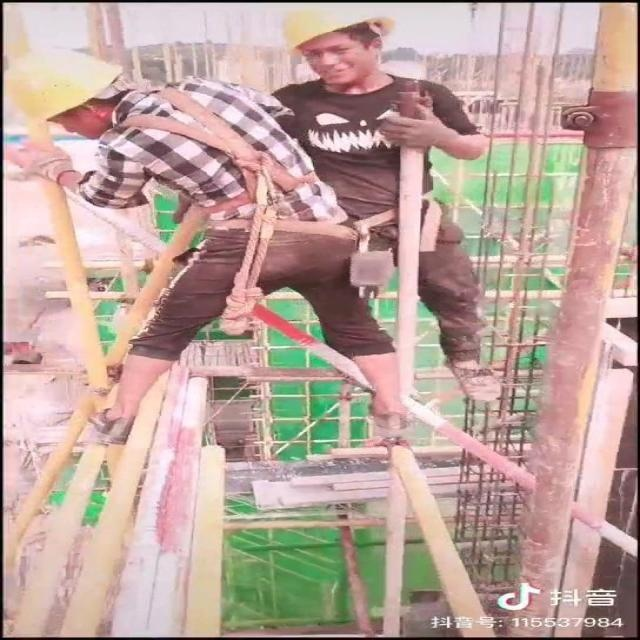Arnes_seguridad: (100, 80, 314, 250)
